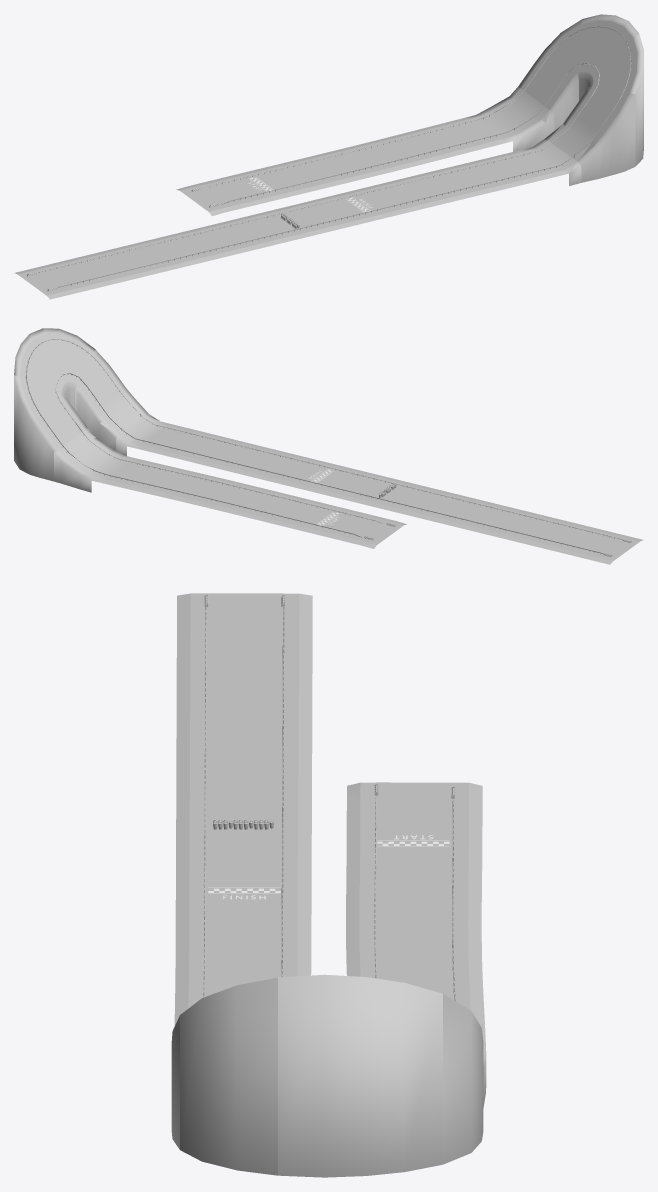
Rendered from Road10D50.fbx.
The picture shows the model from 3 angles, top to bottom: view 1: azimuth 30°, elevation 25°; view 2: azimuth 150°, elevation 25°; view 3: azimuth 270°, elevation 25°; orthographic projection. The views are drawn at different scales.
Parts seen in each view (by area): view 1: Markers0.016, Markers7.016, SCutR3.016, Markers1.016, Markers2.016, Markers8.016, SCutR0.016, SCutL7.016, Markers3.016, Markers6.016, WBeam2R.016, SCutR2.016 (+18 smaller); view 2: Markers0.016, Markers7.016, SCutR6.016, Markers1.016, Markers2.016, Markers8.016, SCutR7.016, SCutL0.016, Markers3.016, Markers6.016, WBeam2R.016, SCutL3.016 (+18 smaller); view 3: SCutR5.016, SCutR4.016, Markers0.016, Markers1.016, Markers8.016, SCutL0.016, SCutR0.016, SCutR6.016, Markers9.016, SCutL1.016, SCutR1.016, SCutL8.016 (+11 smaller).
Part boxes in pixels (<box>): Markers0.016: <box>22,222,270,292</box>; Markers7.016: <box>377,92,545,161</box>; SCutR3.016: <box>573,92,635,182</box>; Markers1.016: <box>251,183,427,236</box>; Markers2.016: <box>408,144,572,198</box>; Markers8.016: <box>257,146,397,190</box>; SCutR0.016: <box>43,237,278,299</box>; SCutL7.016: <box>398,107,554,168</box>; Markers3.016: <box>552,88,624,158</box>; Markers6.016: <box>525,31,580,106</box>; WBeam2R.016: <box>57,26,631,287</box>; SCutR2.016: <box>428,159,581,205</box>; Markers0.016: <box>404,492,636,558</box>; Markers7.016: <box>62,433,219,497</box>; SCutR6.016: <box>14,375,61,481</box>; Markers1.016: <box>258,456,422,505</box>; Markers2.016: <box>123,418,276,469</box>; Markers8.016: <box>201,484,332,525</box>; SCutR7.016: <box>54,447,200,504</box>; SCutL0.016: <box>396,506,616,564</box>; Markers3.016: <box>80,358,141,431</box>; Markers6.016: <box>26,379,81,446</box>; WBeam2R.016: <box>25,339,622,539</box>; SCutL3.016: <box>75,381,122,450</box>; SCutR5.016: <box>278,974,442,1177</box>; SCutR4.016: <box>180,977,277,1175</box>; Markers0.016: <box>205,593,283,801</box>; Markers1.016: <box>204,802,282,944</box>; Markers8.016: <box>375,848,453,958</box>; SCutL0.016: <box>283,593,312,804</box>; SCutR0.016: <box>176,593,206,803</box>; SCutR6.016: <box>443,994,483,1164</box>; Markers9.016: <box>375,782,453,848</box>; SCutL1.016: <box>282,802,311,946</box>; SCutR1.016: <box>175,802,205,946</box>; SCutL8.016: <box>346,848,375,960</box>.
Size of the model in its own units: 25795 by 4452 by 6090.
